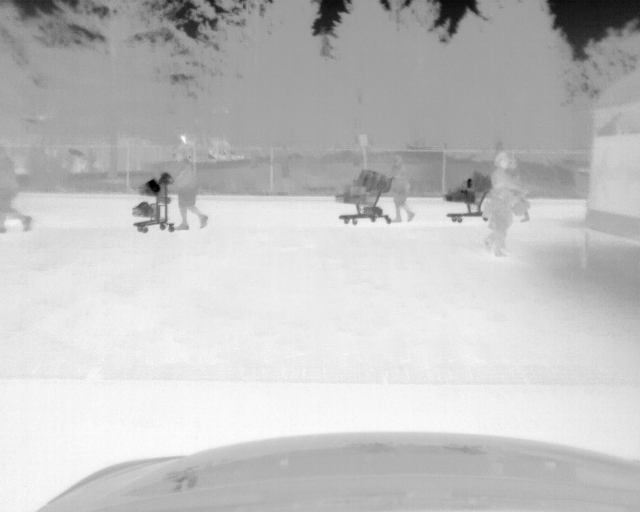people: (164, 144, 209, 231), (483, 151, 523, 243), (1, 144, 34, 233), (386, 153, 415, 224), (502, 154, 529, 224), (490, 187, 512, 258)
